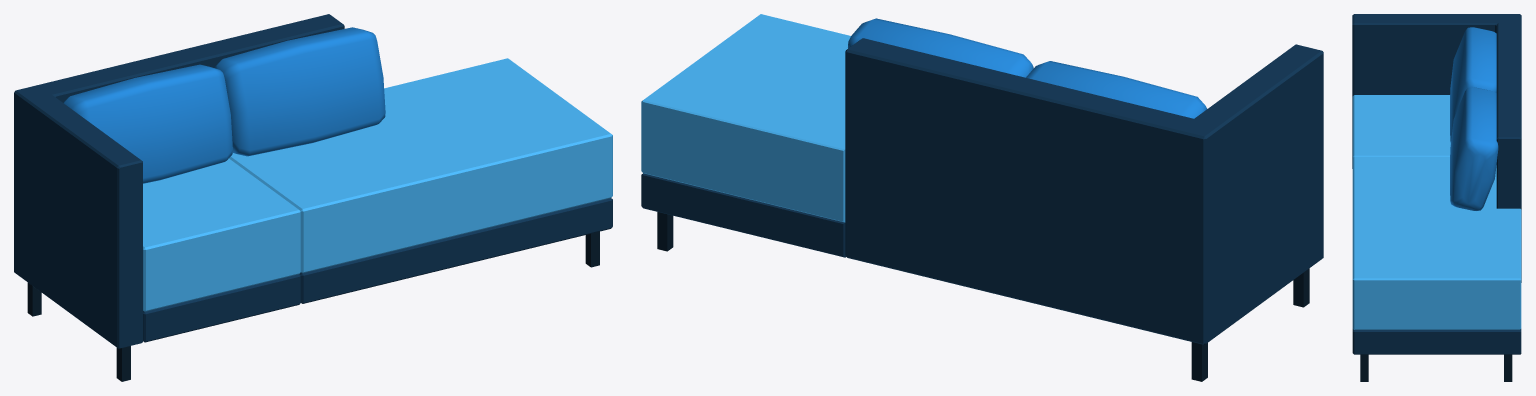
File: Prop_Sofa_06_E.fbx
3 views of the same model, side by side, from view 1: azimuth 30°, elevation 25°; view 2: azimuth 150°, elevation 25°; view 3: azimuth 270°, elevation 25° (orthographic). The views are drawn at different scales.
Visible parts, largest first — view 1: Prop_Sofa_06_E; view 2: Prop_Sofa_06_E; view 3: Prop_Sofa_06_E.
Part boxes in pixels (box(x1,y1,x2,y2)): Prop_Sofa_06_E: box(14, 14, 612, 381); Prop_Sofa_06_E: box(641, 14, 1323, 381); Prop_Sofa_06_E: box(1352, 14, 1521, 381).
Size of the model in its own units: 206 by 89.51 by 75.66.
